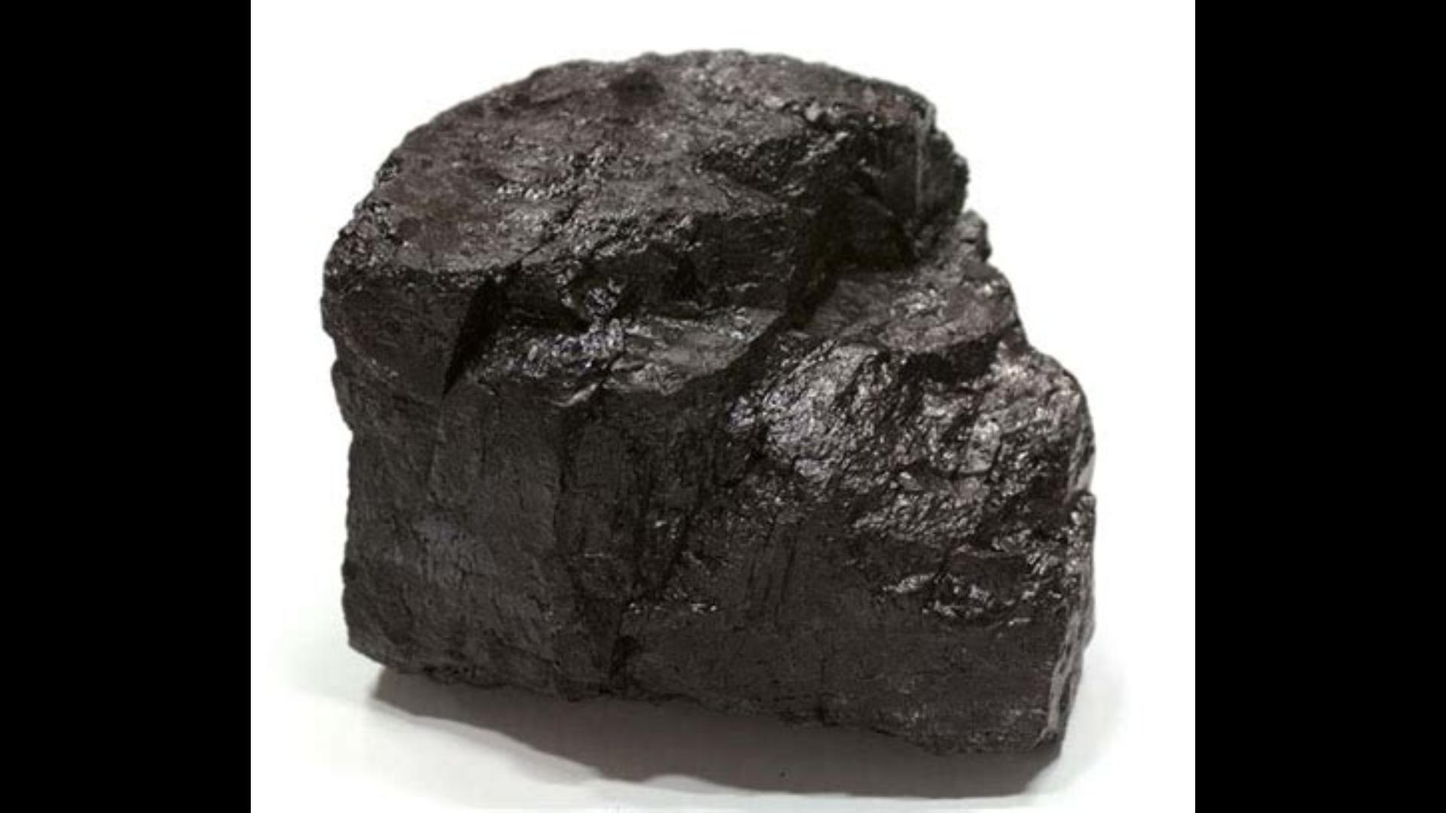rock: (325, 52, 1090, 751)
